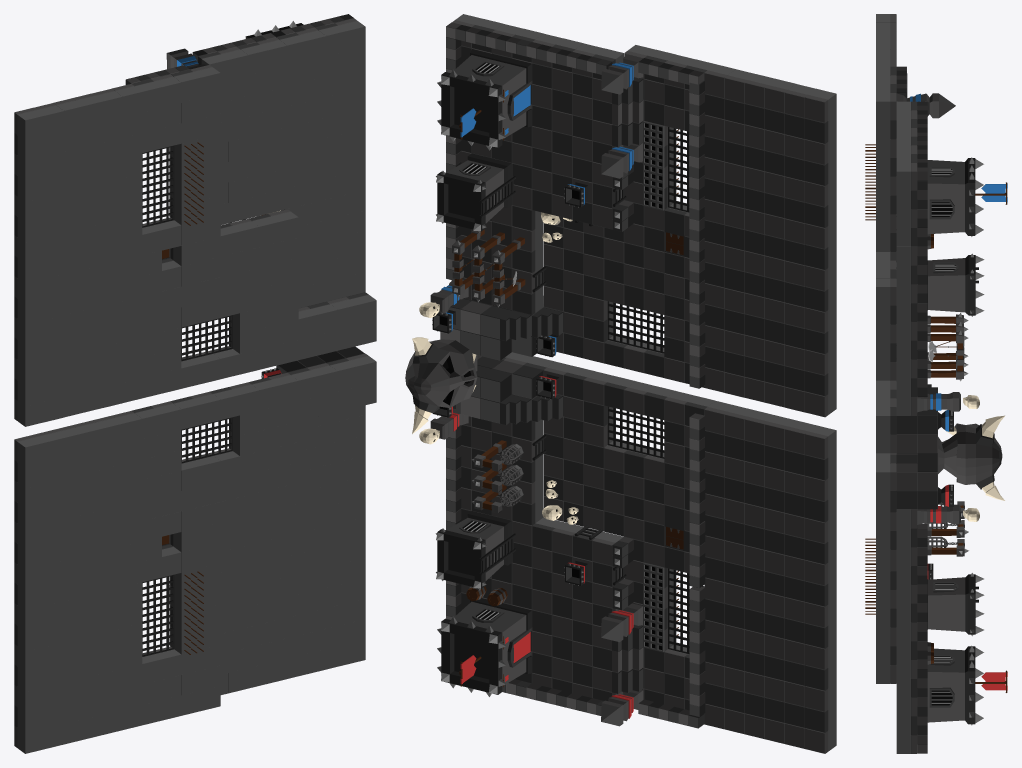
Rendered from lobby.fbx.
3 views of the same model, side by side, from view 1: azimuth 30°, elevation 25°; view 2: azimuth 150°, elevation 25°; view 3: azimuth 270°, elevation 25° (orthographic). The views are drawn at different scales.
Parts seen in each view (by area): view 1: Floor01__191_; view 2: Floor01__191_; view 3: Floor01__191_.
Boxes of the visible parts, x1,y1,x2,y2 form: Floor01__191_: [14, 14, 376, 753]; Floor01__191_: [405, 14, 836, 753]; Floor01__191_: [865, 14, 1007, 753].
Bounding box in the file's own units: 3718 × 6203 × 1375.
